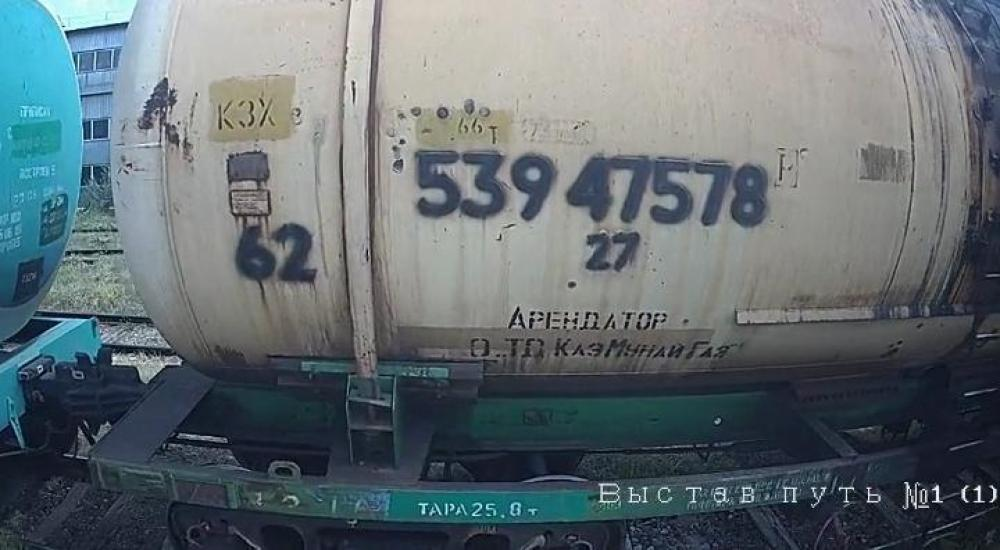Wagon-number: (406, 146, 774, 231)
